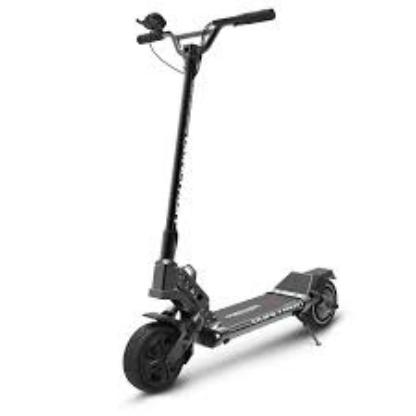bike: (122, 5, 341, 396), (123, 260, 339, 395)
